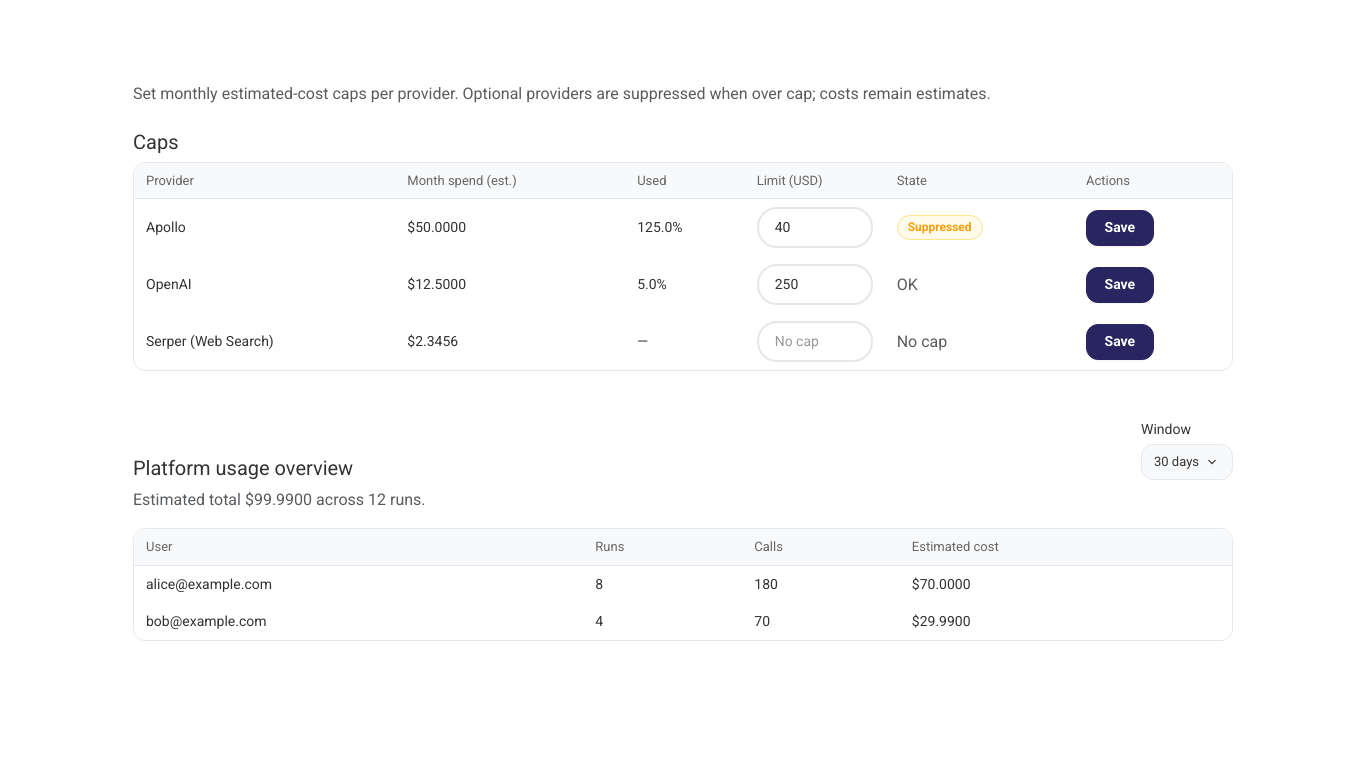
it: AdminProviderBudgetsPage › confirms before clearing and posts cleared action
Expected: the row with test id "admin-budget-openai_api_key" is shown, [134,256,1232,313]
Clear the field with test id "limit-input-openai_api_key": x=815, y=285 [757,264,873,305]
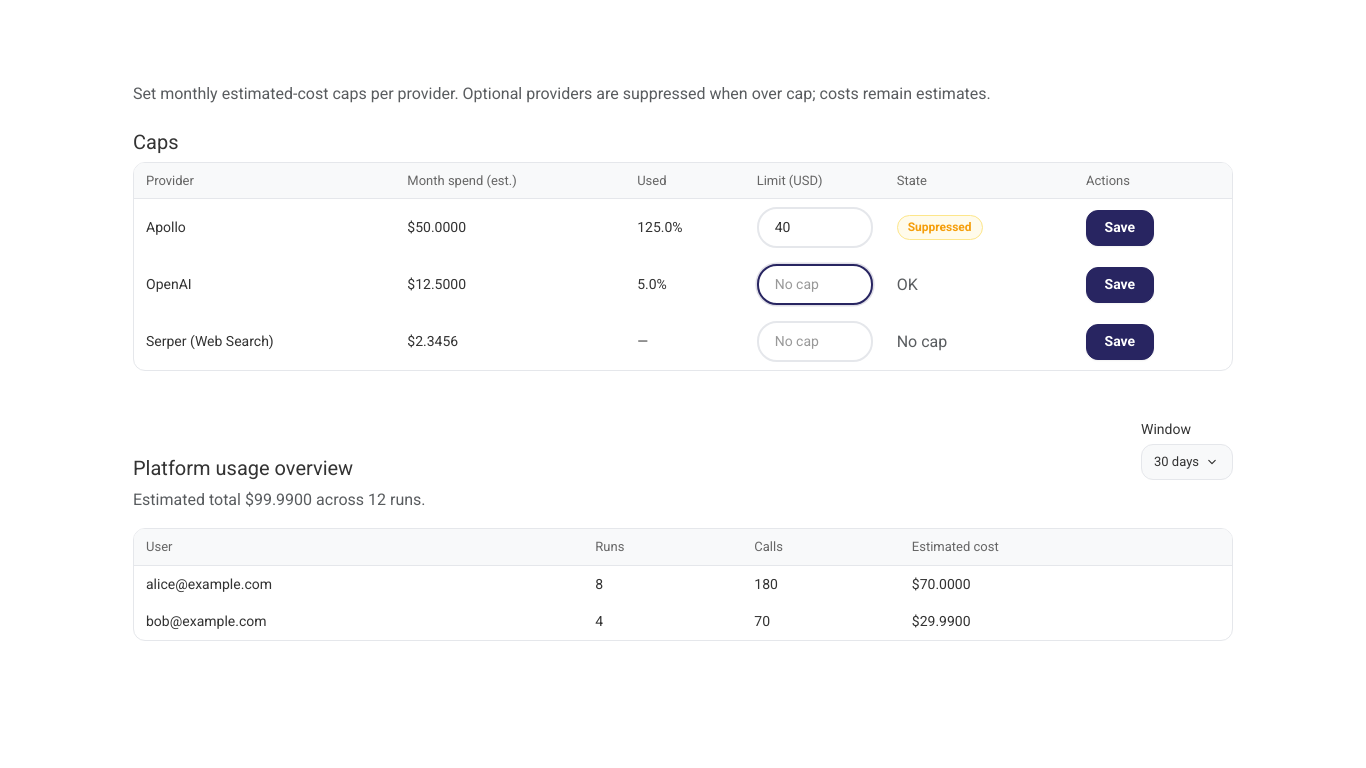
Click the button with test id "save-budget-openai_api_key": x=1120, y=285 [1086,267,1154,303]
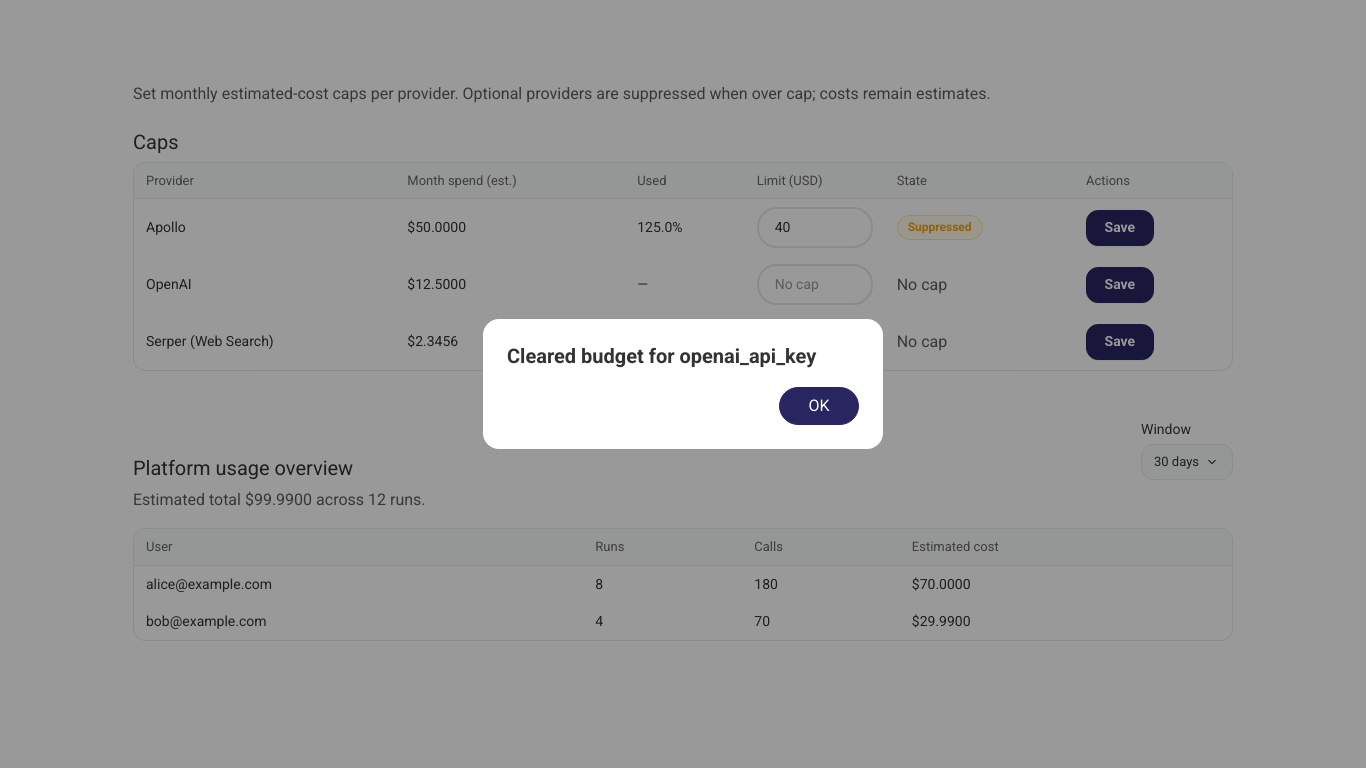
Result: the heading "Cleared budget for openai_api_key" is shown at [507,343,859,369]
